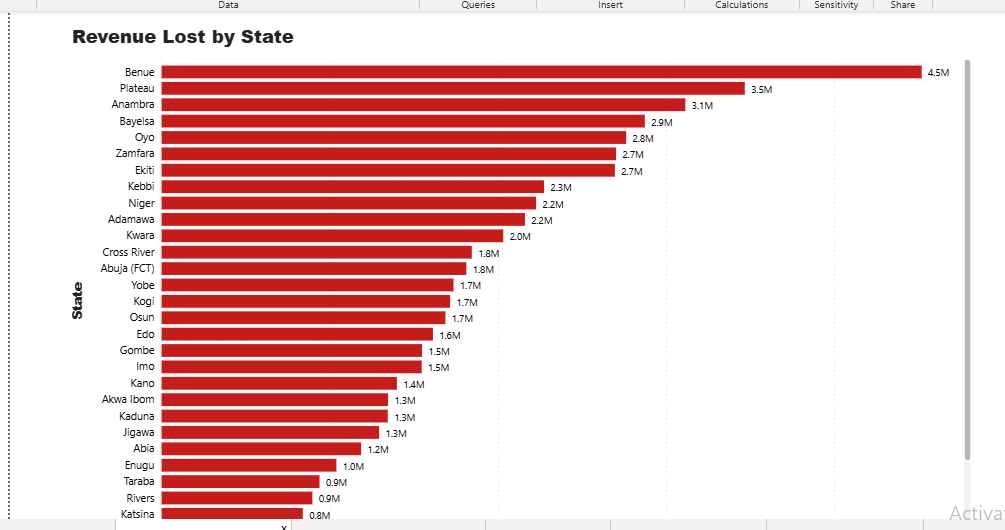

Layout of this report page (visuals, bound fields, positions):
{"tool":"powerbi","page":{"name":"REVENUE LOST BY STATE","canvas":[1280,720],"ordinal":1},"visuals":[{"type":"clusteredBarChart","fields":{"Category":["Sheet1.State"],"Y":["Sheet1.Revenue Lost"]},"box":[72,18.7,1133.3,701.3],"z":0}]}

Visuals, with their boxes on the page's 1280x720 design canvas (x1, y1, x2, y2). These are canvas units, not pixel positions in the 1005x530 screenshot, which may show the page scaled, cropped or inside an application window:
clusteredBarChart - Sheet1.State x Sheet1.Revenue Lost: 72, 19, 1205, 720
